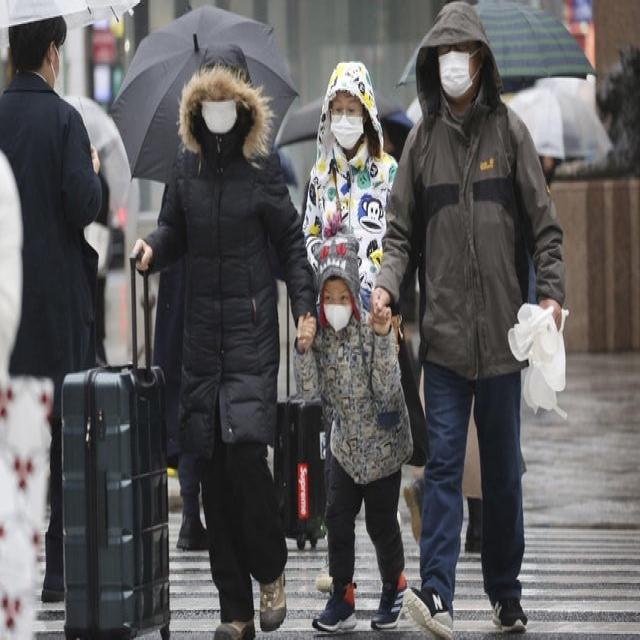hat: (315, 235, 363, 312)
